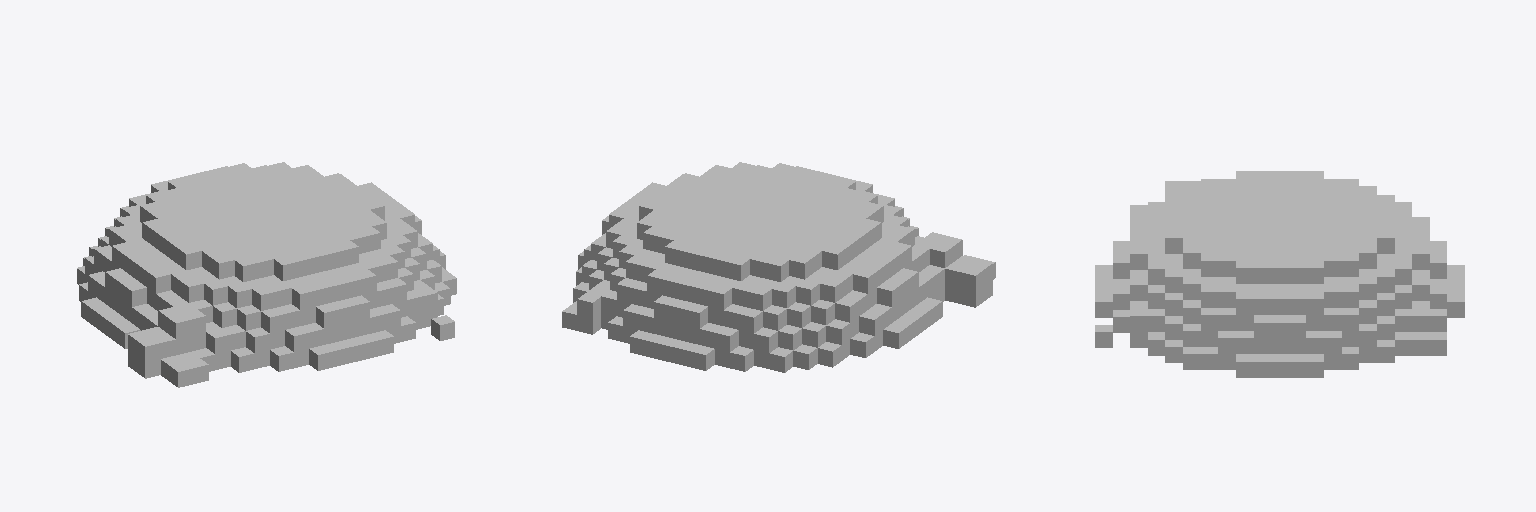
Rendered from attempt.obj.
3 views of the same model, side by side, from view 1: azimuth 30°, elevation 25°; view 2: azimuth 150°, elevation 25°; view 3: azimuth 270°, elevation 25° (orthographic).
Parts seen in each view (by area): view 1: Cube.520_Cube.538; view 2: Cube.520_Cube.538; view 3: Cube.520_Cube.538.
Boxes of the visible parts, <box> form: Cube.520_Cube.538: <box>77,162,456,387</box>; Cube.520_Cube.538: <box>562,162,995,372</box>; Cube.520_Cube.538: <box>1095,171,1464,377</box>.
Size of the model in its own units: 2.2 by 0.5 by 2.1.